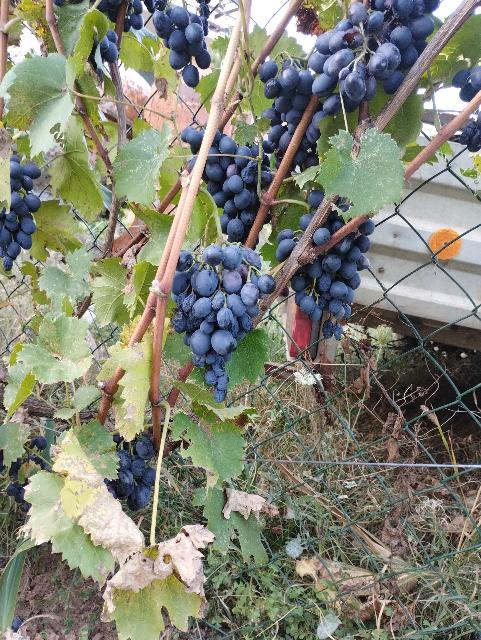grapes: (264, 190, 375, 340), (171, 244, 276, 402), (291, 221, 375, 340), (202, 130, 272, 244), (260, 59, 325, 171)
